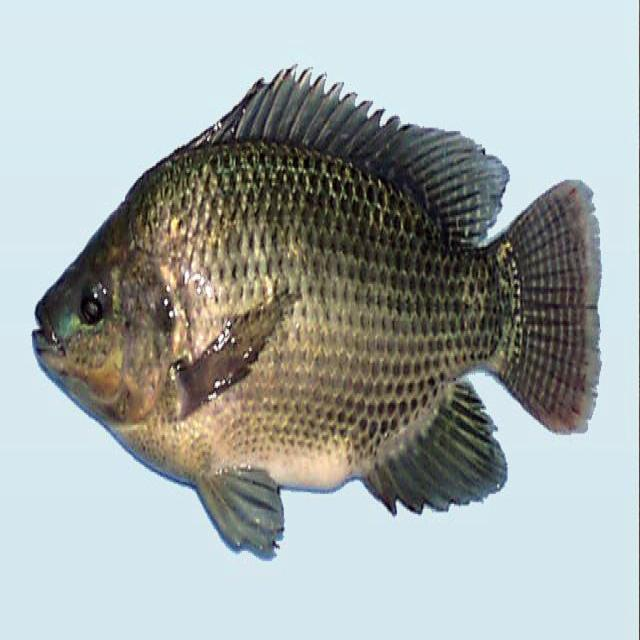ikan: (31, 61, 603, 560)
